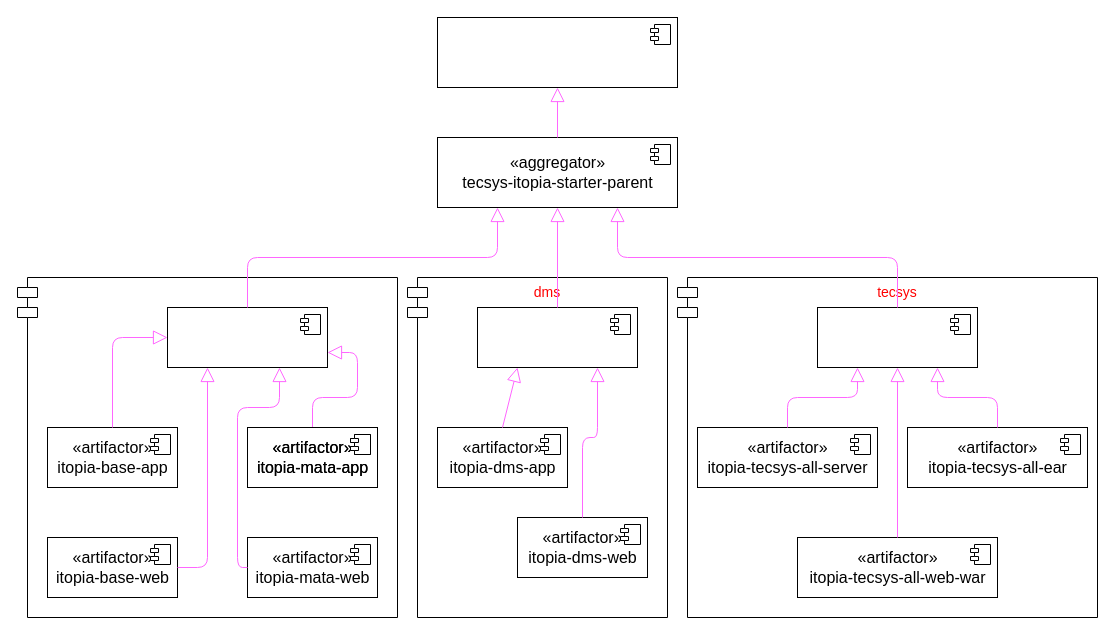
Some shapes in this 1115 by 635 pixel diagram are drawn without their labels. Each missing label, with the box of its shape:
meta: (16, 276, 398, 618)
«aggregator» itopia-dms-all: (476, 306, 638, 368)
«aggregator» itopia-mata-all: (166, 306, 328, 368)
«aggregator» itopia-tecsys-all: (816, 306, 978, 368)
«BOM Aggregator» tecsys-itopia-dependencies: (436, 16, 678, 88)
